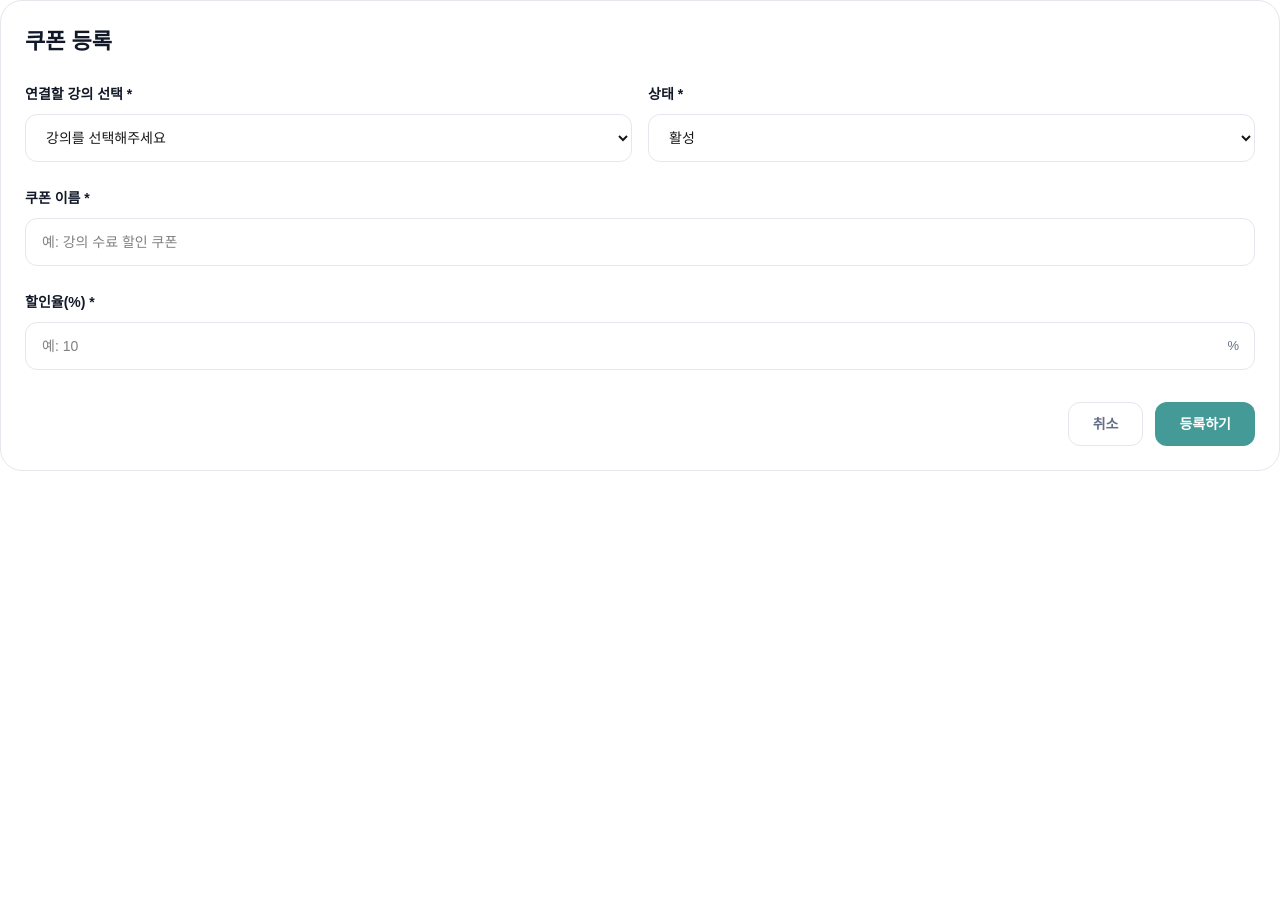
CouponForm 컴포넌트 테스트 › 입력값이 올바르면 쿠폰 등록 요청을 보낸다
Select "오사카 여행 준비" in the dropdown labelled "연결할 강의 선택 *" at (328, 138), box [25,114,632,162]
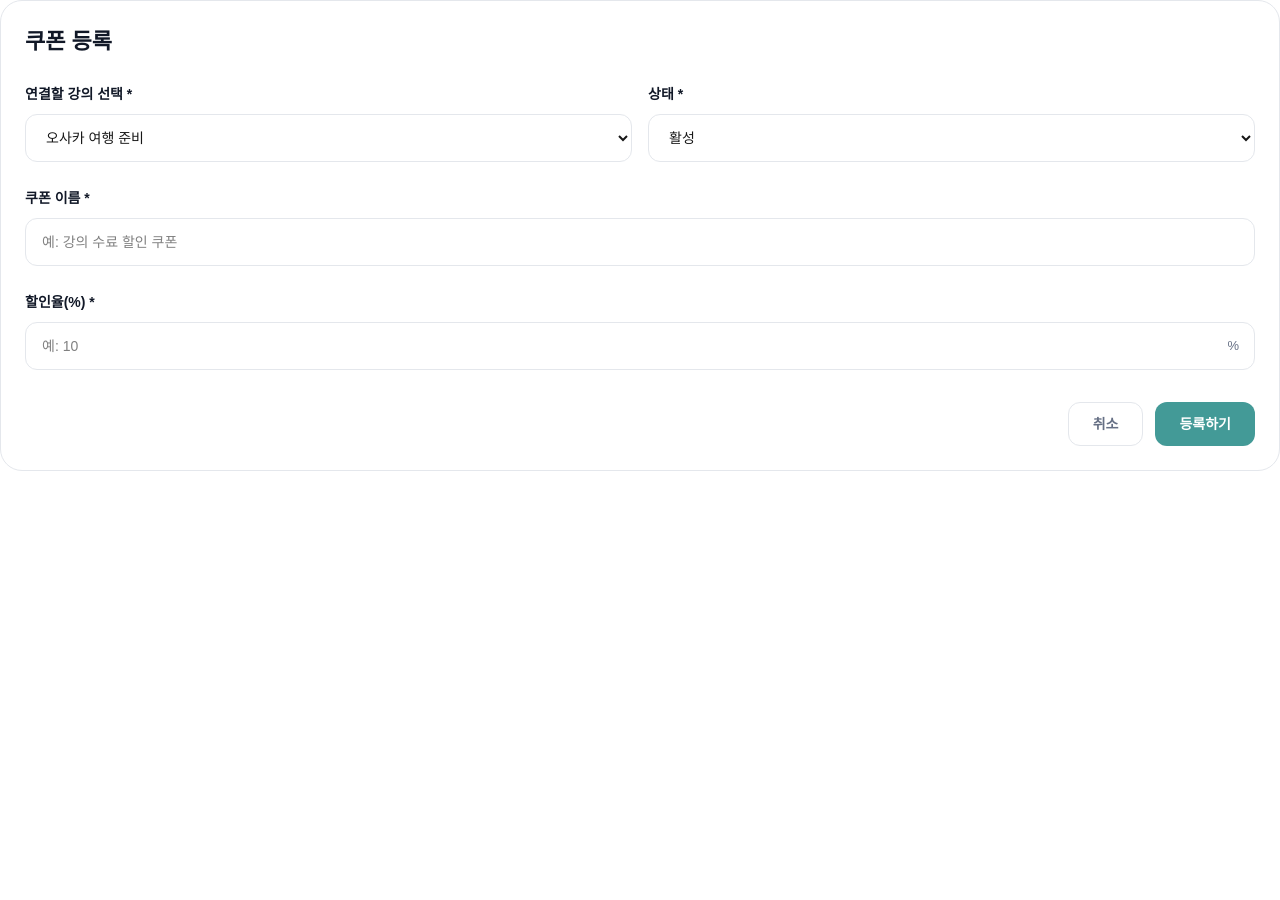
Type "수료 할인 쿠폰" into the field labelled "쿠폰 이름 *" at (640, 242), box [25,218,1255,266]
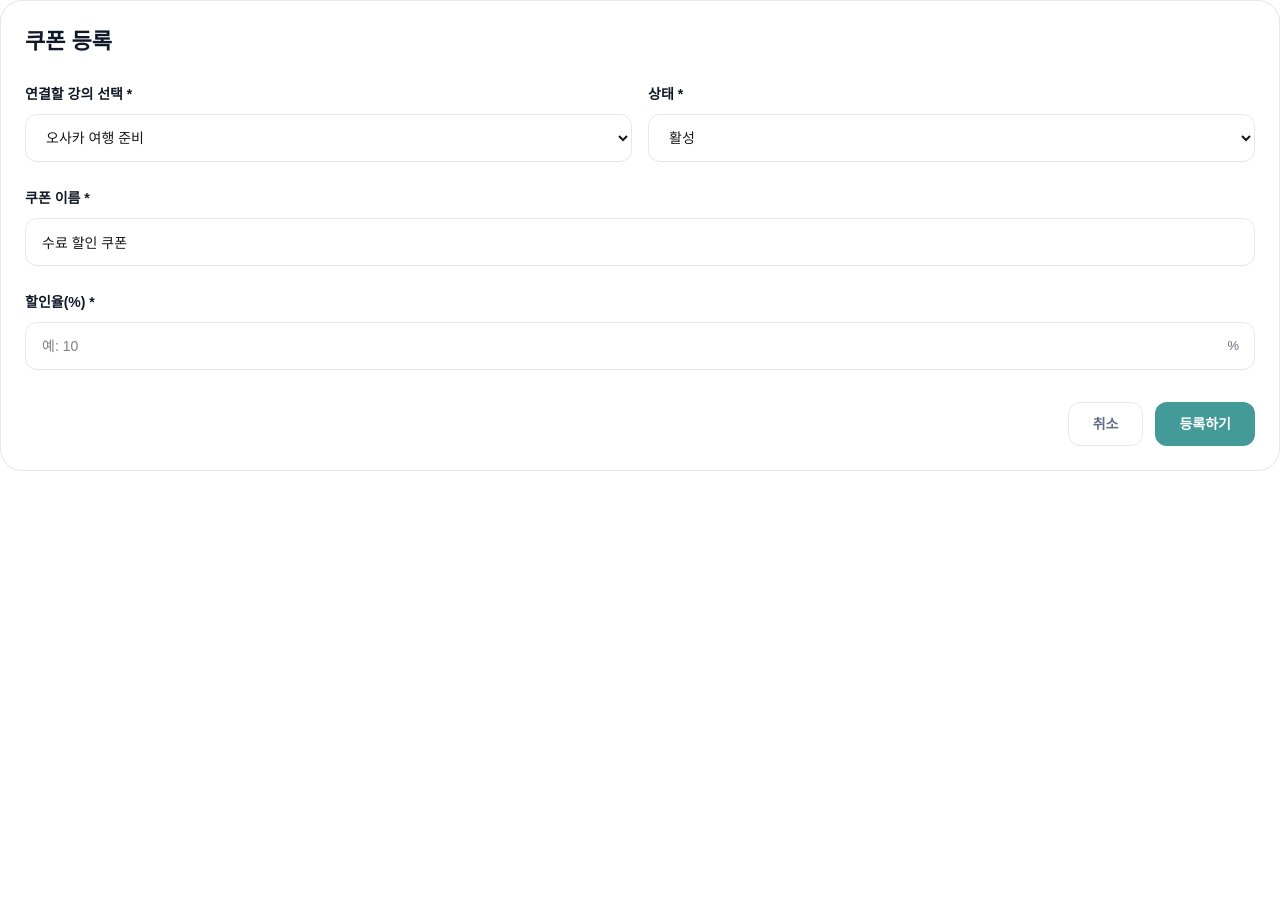
Type "10" into the number field labelled "할인율(%) *" at (640, 346), box [25,322,1255,370]
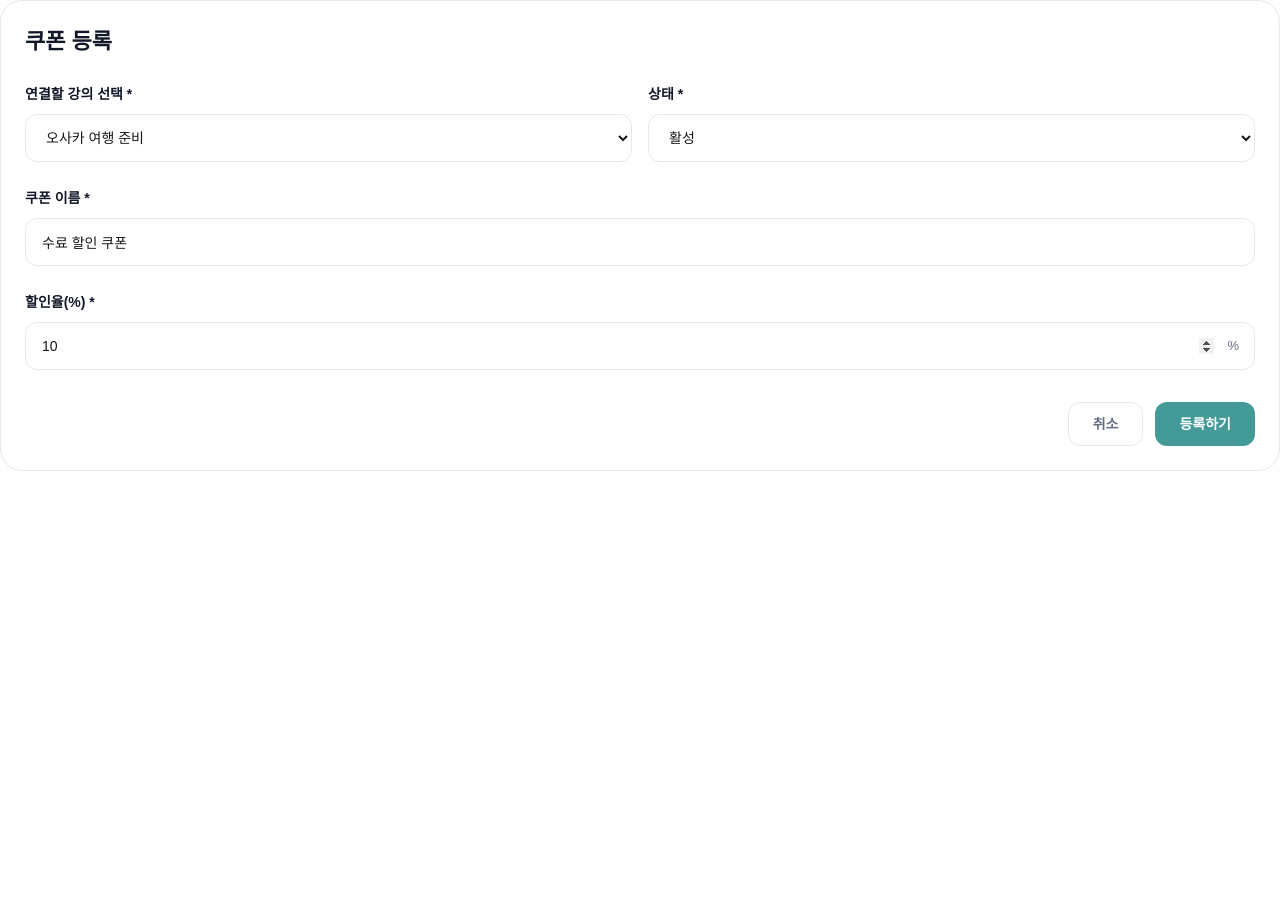
Select "활성" in the dropdown labelled "상태 *" at (952, 138), box [648,114,1255,162]
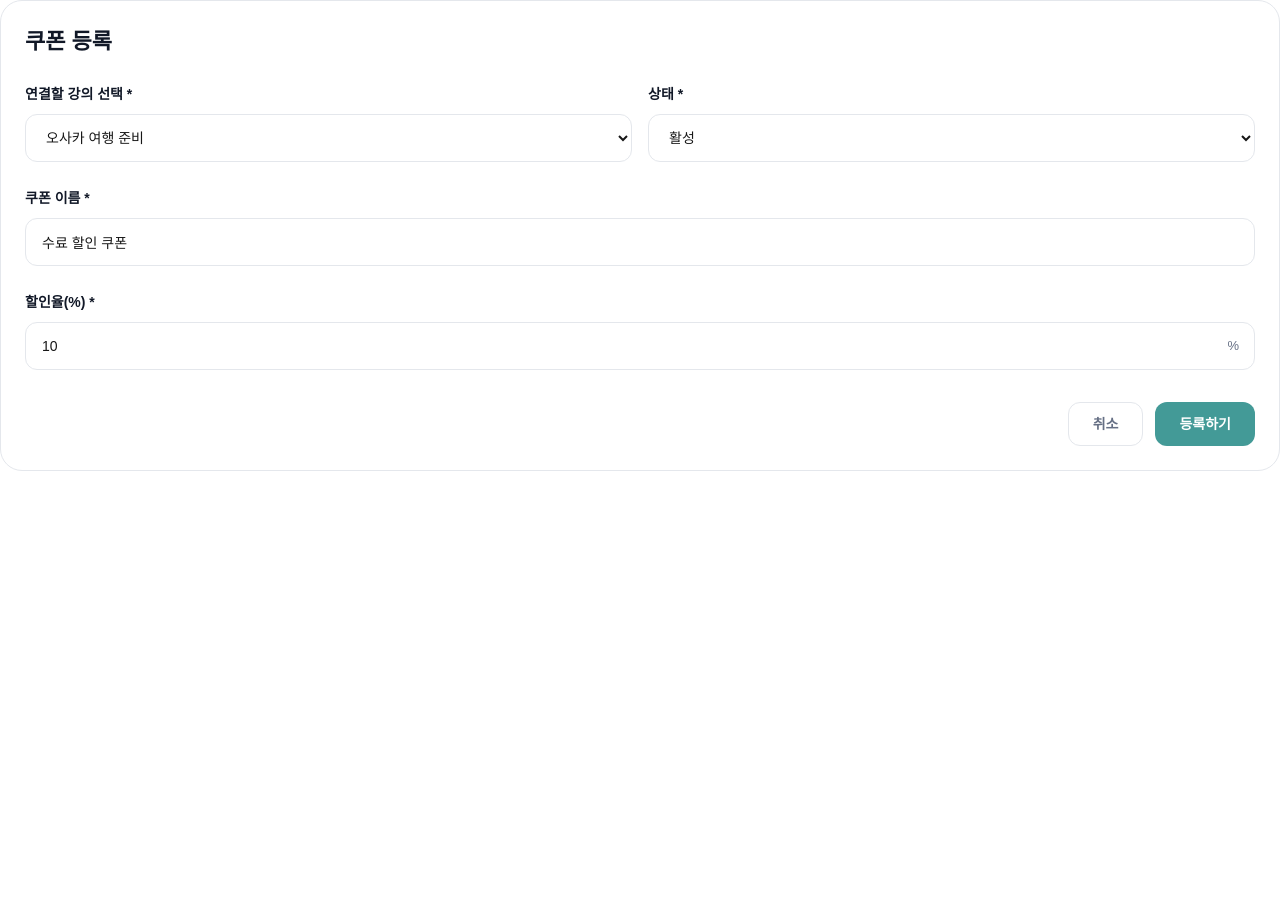
Click the button "등록하기" at (1205, 424), box [1156,402,1255,446]
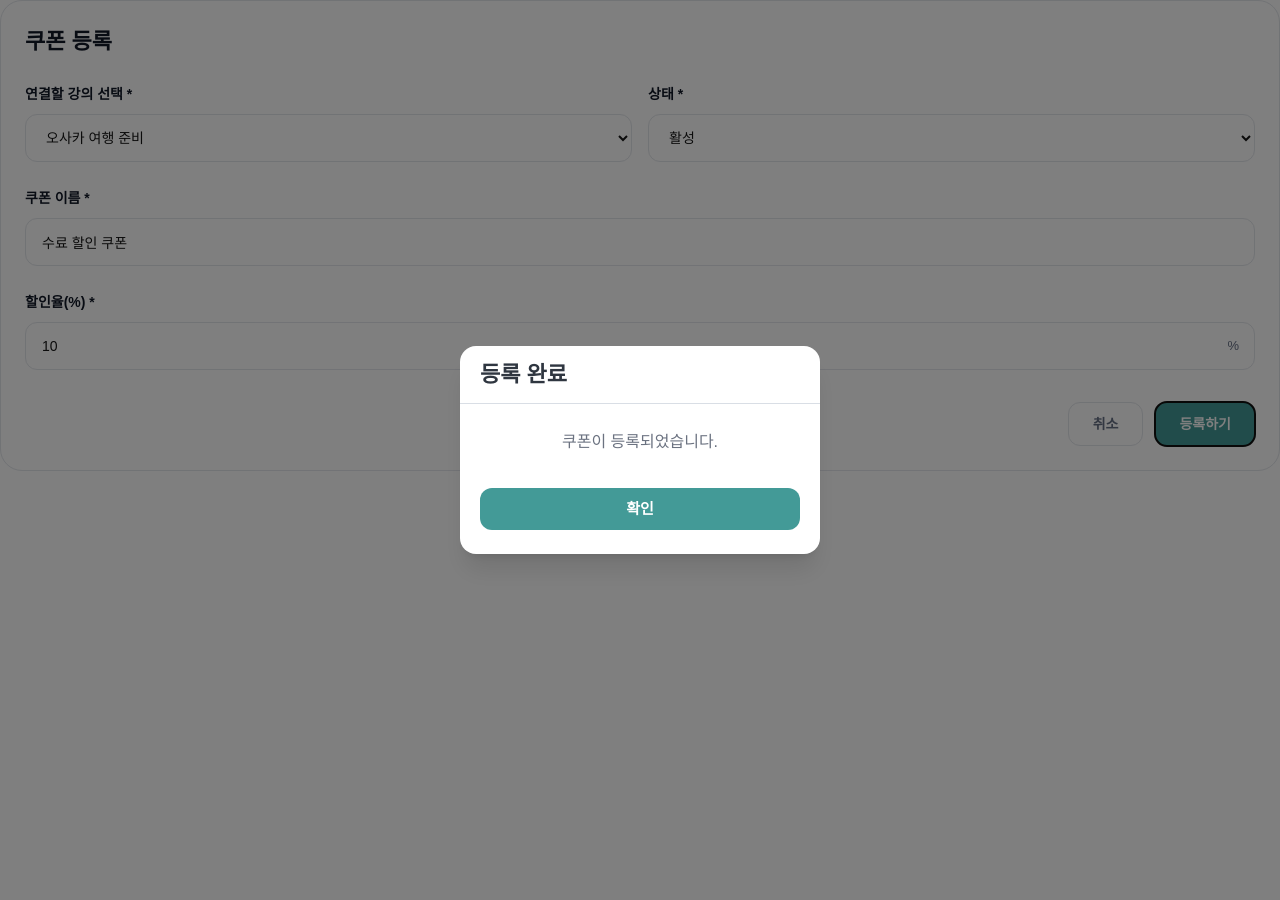
Check: the heading "등록 완료" is shown, box [480,362,567,387]
